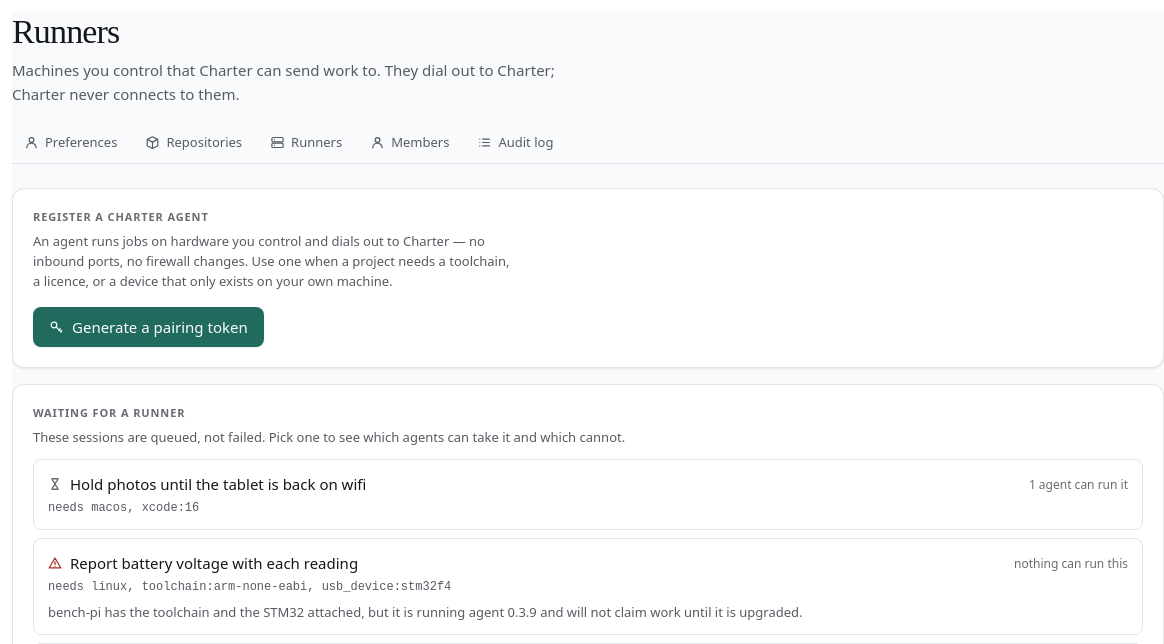
Settings → Runners (§33.3) › shows the exact pairing command and warns the token is single use (§33.3)
The image size is (1164, 644).
What coordinates should you click on to do the following:
click the button "Generate a pairing token"
I would click on:
 (148, 327)
Its box is left=33, top=307, right=264, bottom=347.
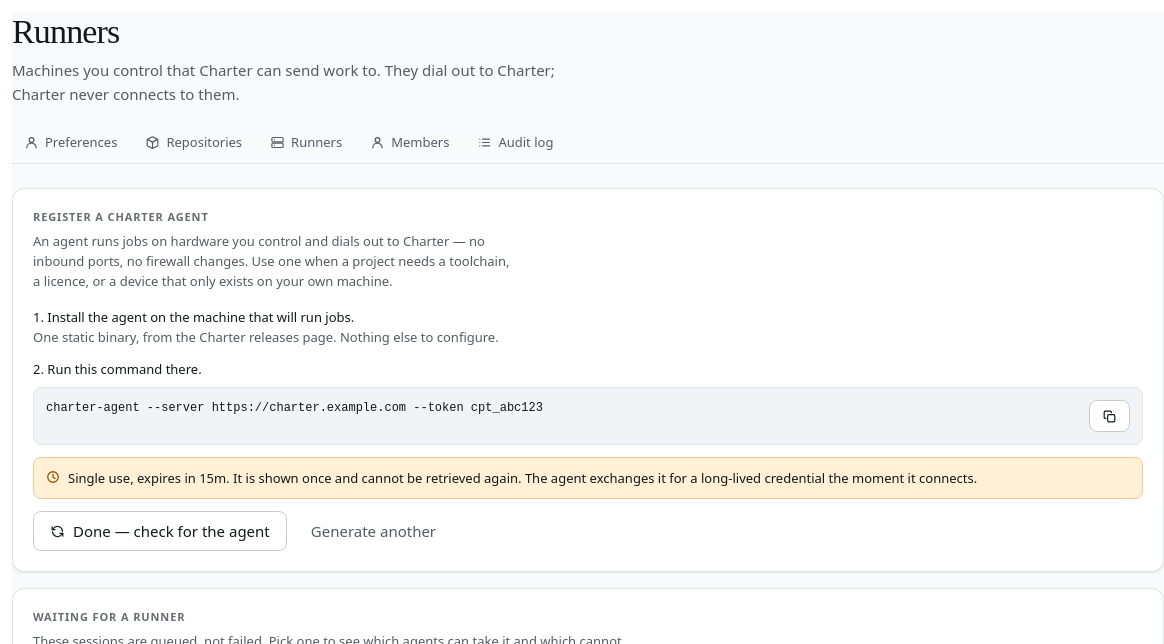
Result: the text "charter-agent --server https://charter.example.com --token cpt_abc123" is shown at left=46, top=401, right=543, bottom=415
Result: the text "Single use, expires in 15m." is shown at left=68, top=469, right=230, bottom=487
Result: the text "cannot be retrieved again" is shown at left=233, top=469, right=977, bottom=487
